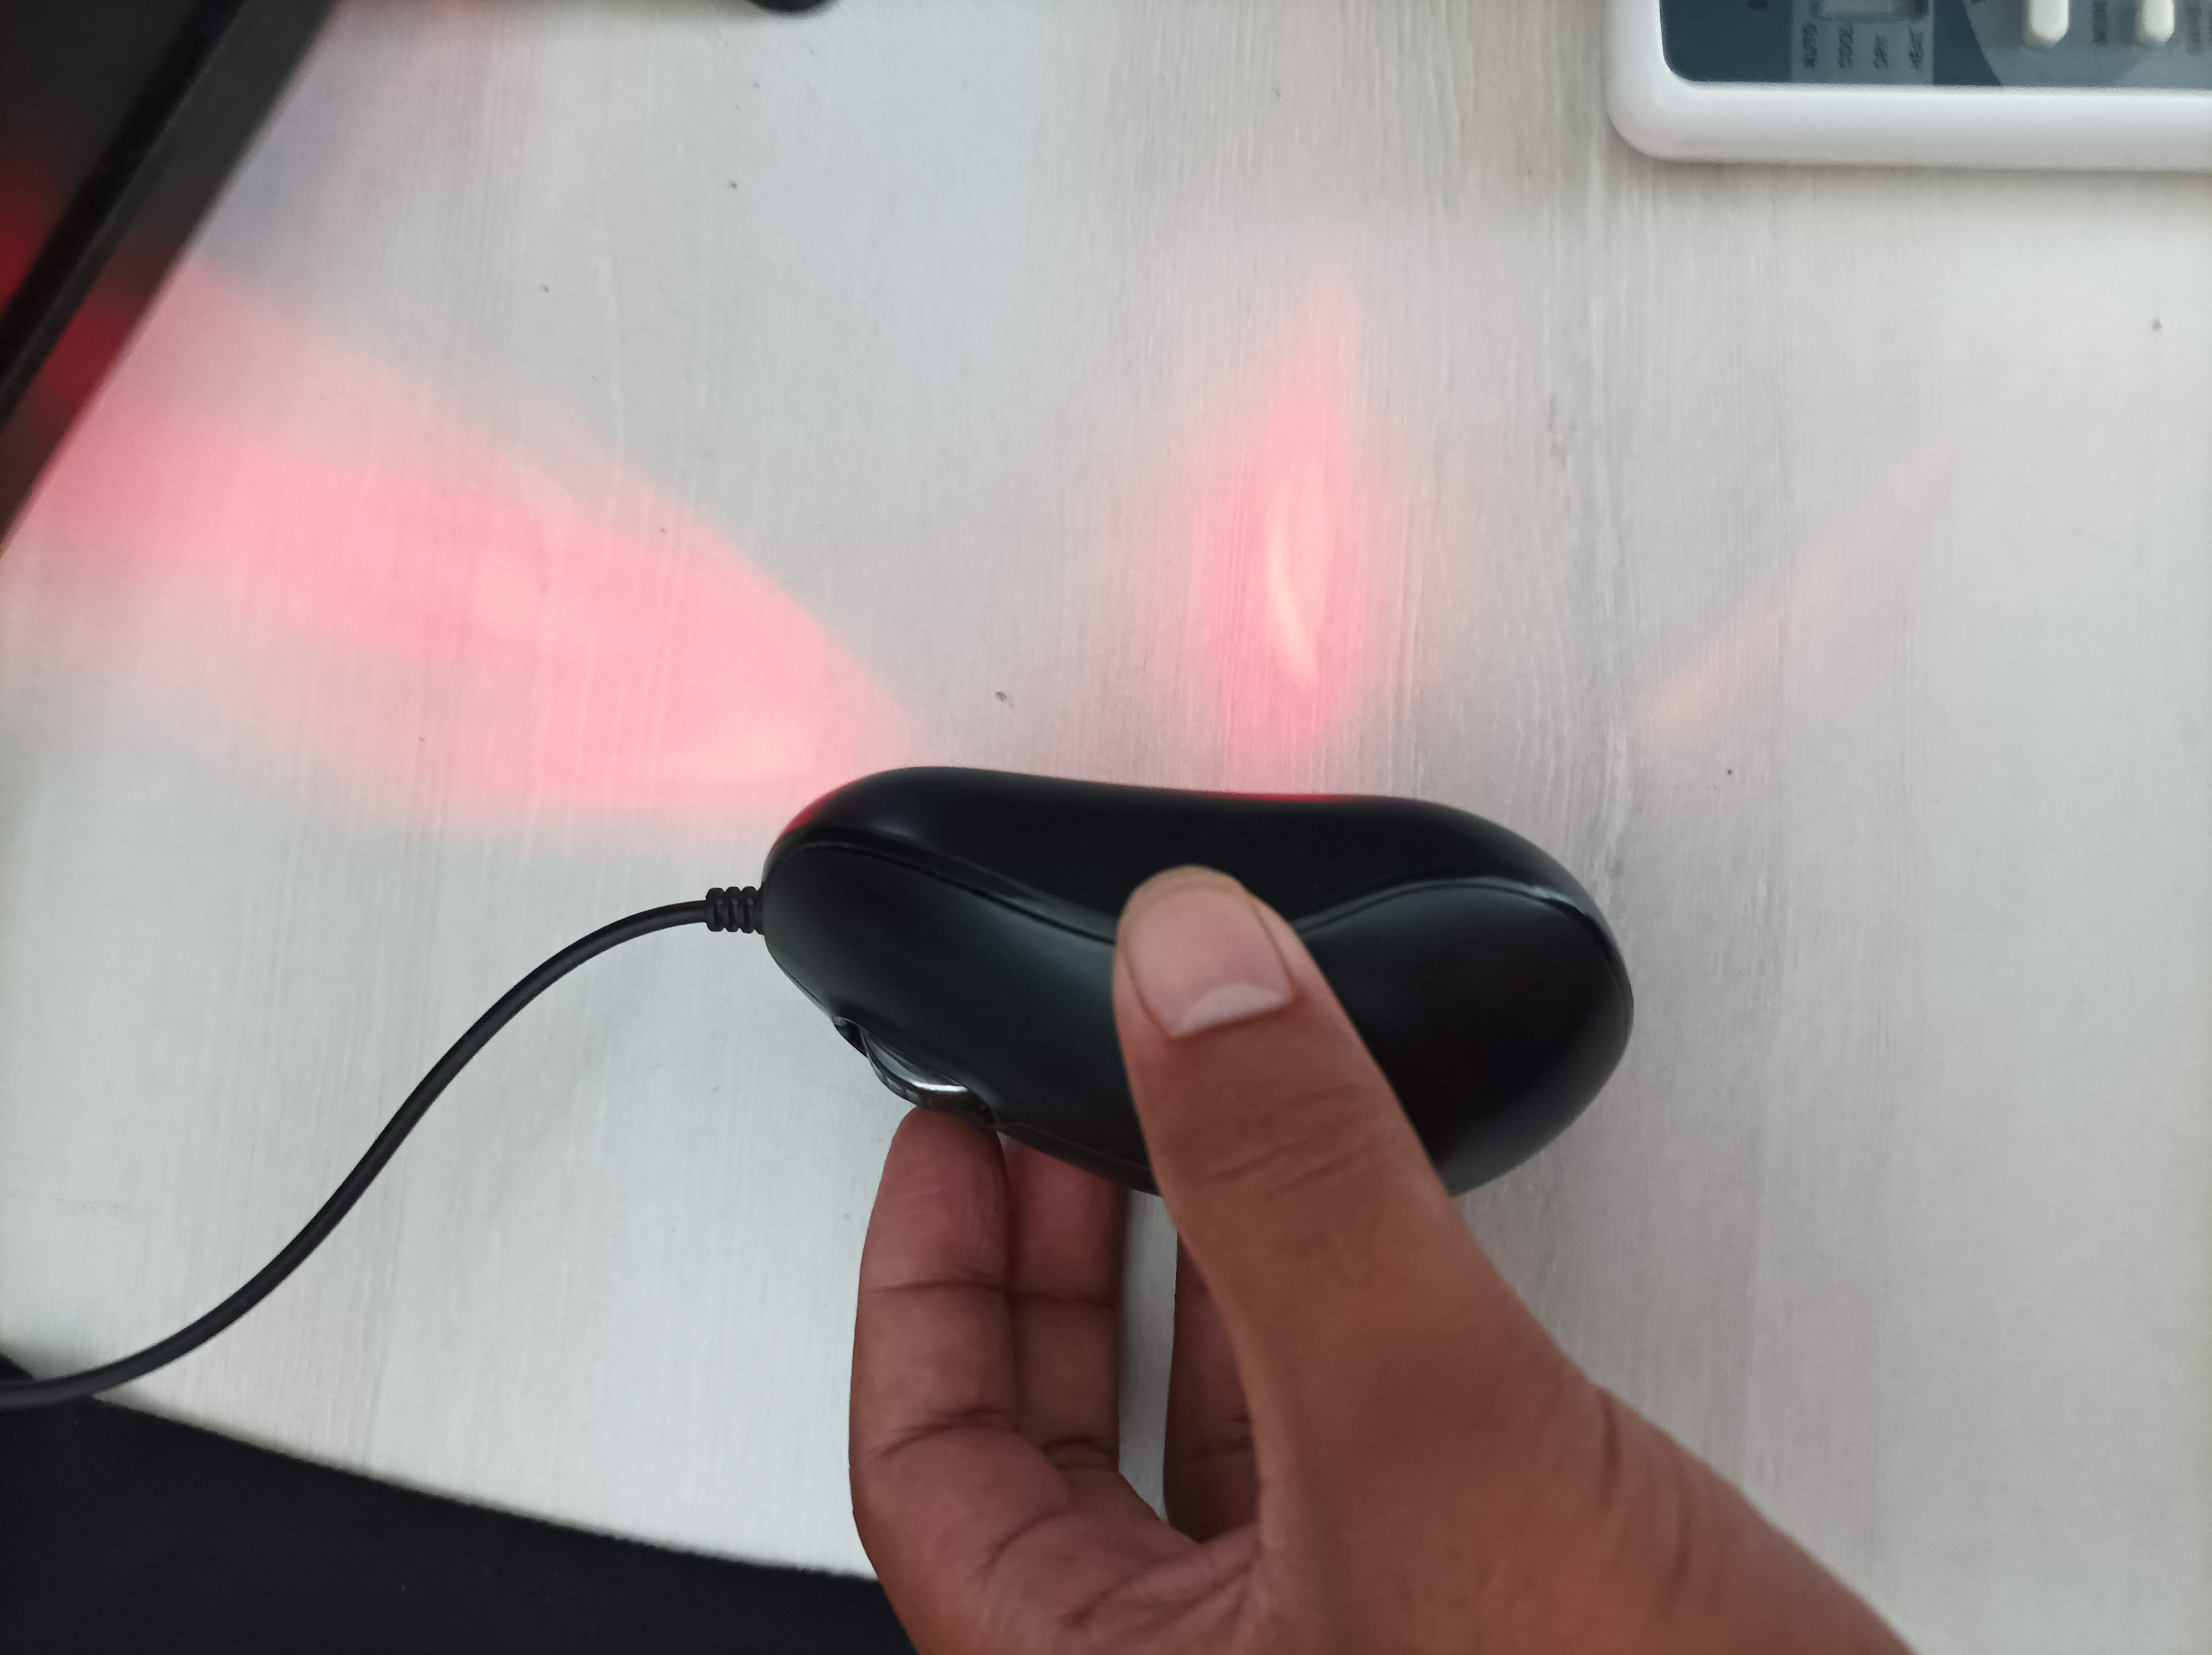mouse: (726, 749, 1654, 1227)
